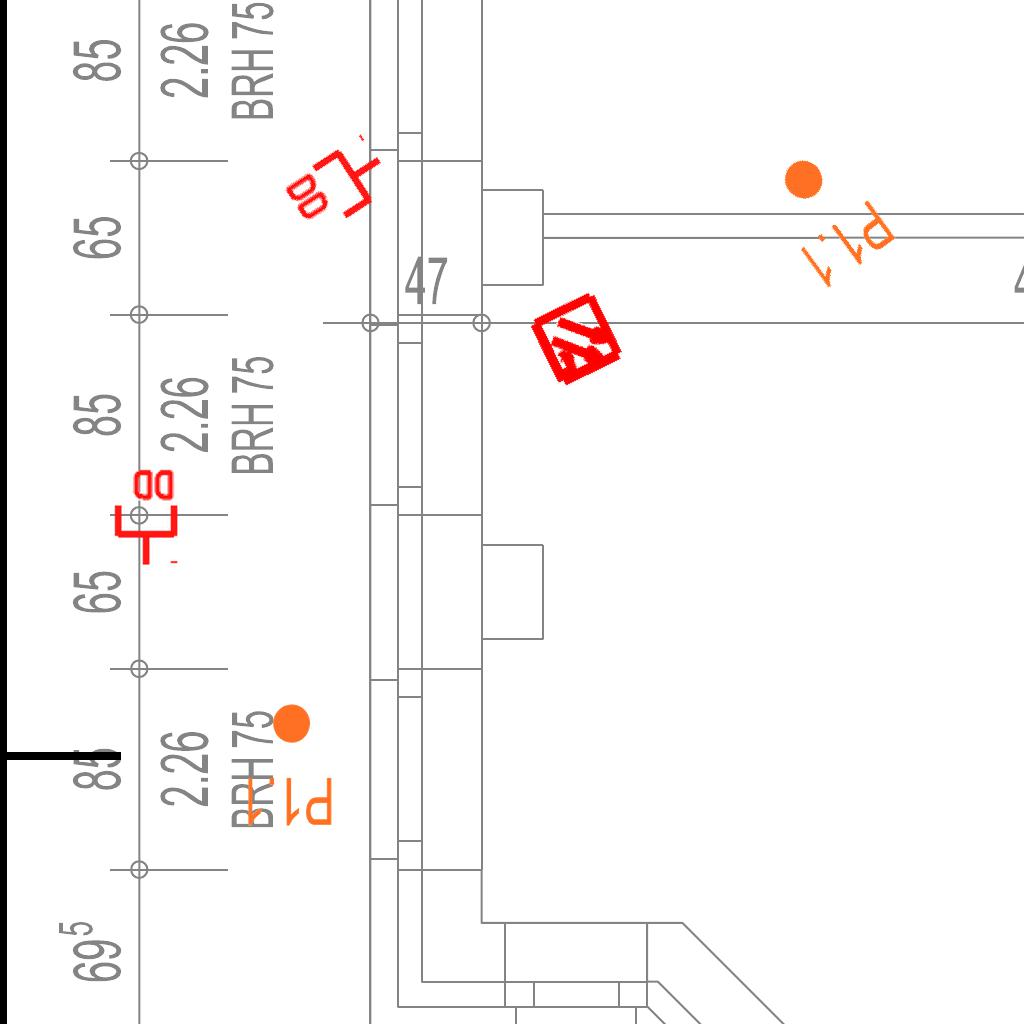Datenanschluss_zweifach: (277, 130, 402, 245), (110, 465, 179, 568)
Downlight_LED_Einbauleuchten_Flur: (750, 135, 901, 295), (242, 701, 335, 829)
OT_Multisensormelder_(Kombination_RMO_WMD): (501, 265, 654, 418)
